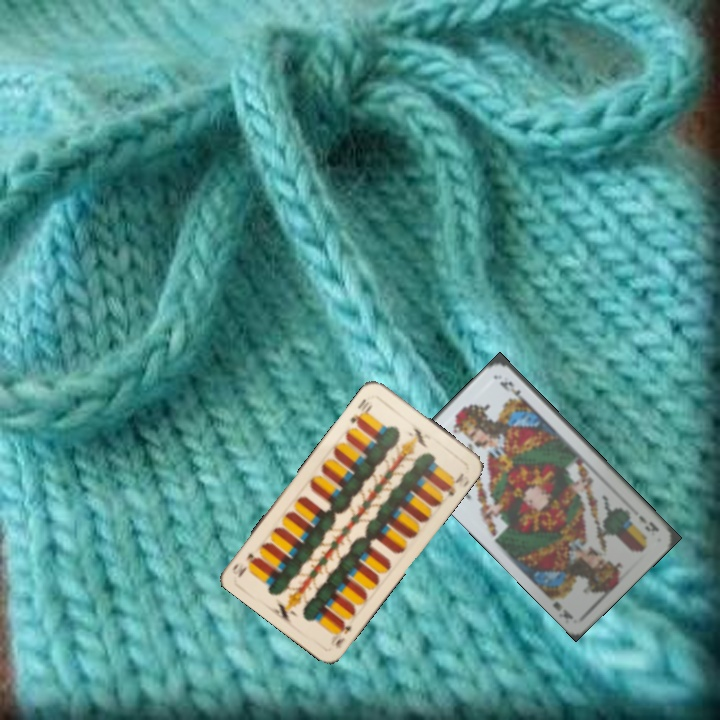E10: (346, 394, 375, 429), (331, 617, 354, 651)
EK: (634, 512, 661, 535)
